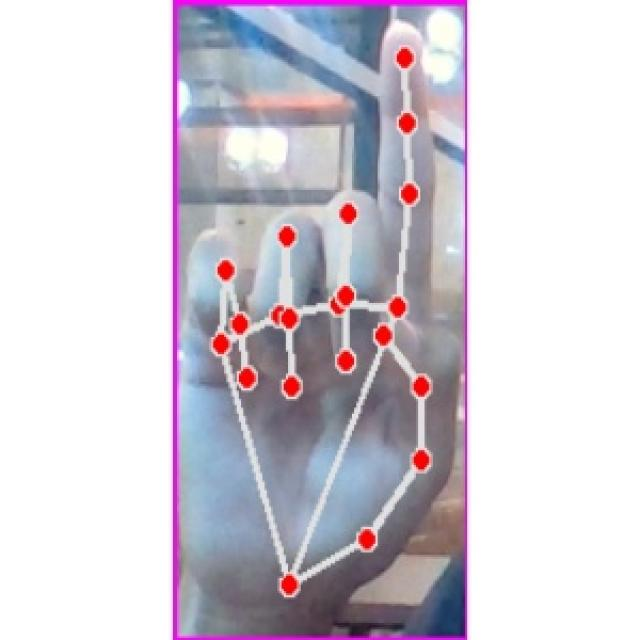D: (182, 18, 454, 611)
